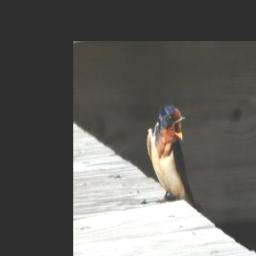Swallow: (147, 101, 193, 202)
